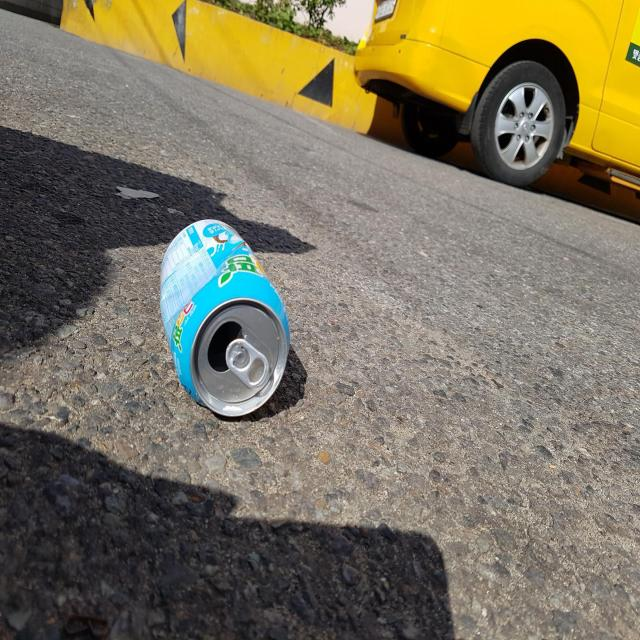can: (160, 219, 290, 417)
